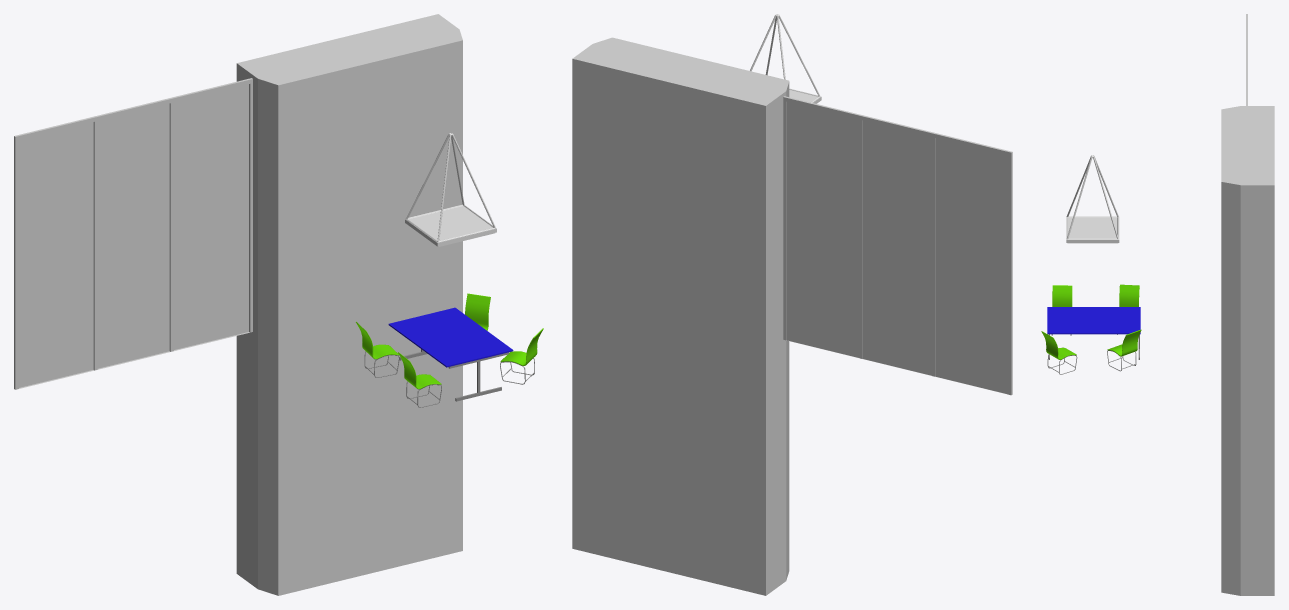
3 renders of one model, left to right at view 1: azimuth 30°, elevation 25°; view 2: azimuth 150°, elevation 25°; view 3: azimuth 270°, elevation 25°, orthographic. The views are drawn at different scales.
Parts seen in each view (by area): view 1: Plane.001, Cube.003, Cube.002, furniture.001, ceiling.001, ceiling.004, furniture.003, furniture.002; view 2: Plane.001, Cube.003, Cube.002, ceiling.004; view 3: Plane.001, furniture.001, ceiling.001, ceiling.004, furniture.002, furniture.003.
Part boxes in pixels (bbox=[...]): Plane.001: bbox=[236, 14, 462, 595]; Cube.003: bbox=[19, 84, 248, 387]; Cube.002: bbox=[14, 78, 252, 389]; furniture.001: bbox=[356, 307, 513, 407]; ceiling.001: bbox=[405, 206, 496, 246]; ceiling.004: bbox=[406, 133, 496, 242]; furniture.003: bbox=[500, 328, 543, 384]; furniture.002: bbox=[465, 293, 490, 330]; Plane.001: bbox=[572, 37, 789, 595]; Cube.003: bbox=[786, 102, 1007, 394]; Cube.002: bbox=[783, 96, 1012, 395]; ceiling.004: bbox=[750, 14, 820, 102]; Plane.001: bbox=[1221, 106, 1274, 595]; furniture.001: bbox=[1047, 284, 1140, 359]; ceiling.001: bbox=[1066, 217, 1119, 243]; ceiling.004: bbox=[1066, 155, 1118, 239]; furniture.002: bbox=[1107, 329, 1141, 371]; furniture.003: bbox=[1041, 331, 1077, 374].
Bounding box in the file's own units: 1595 × 1765 × 908.
